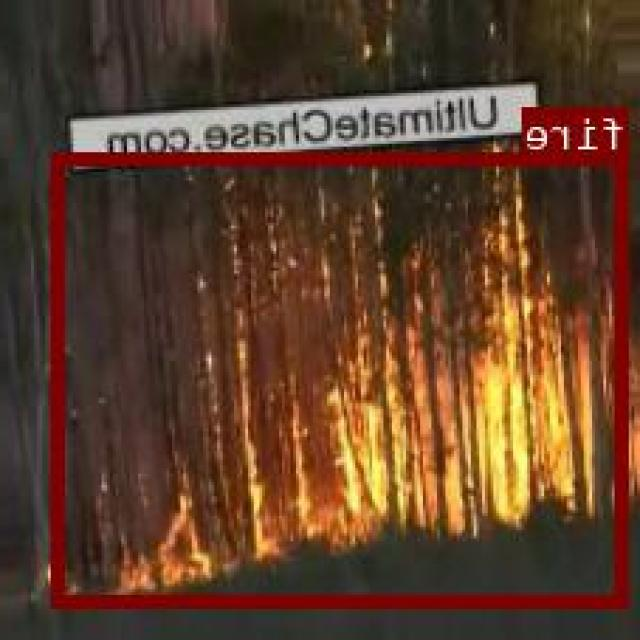fire: (56, 150, 629, 606)
